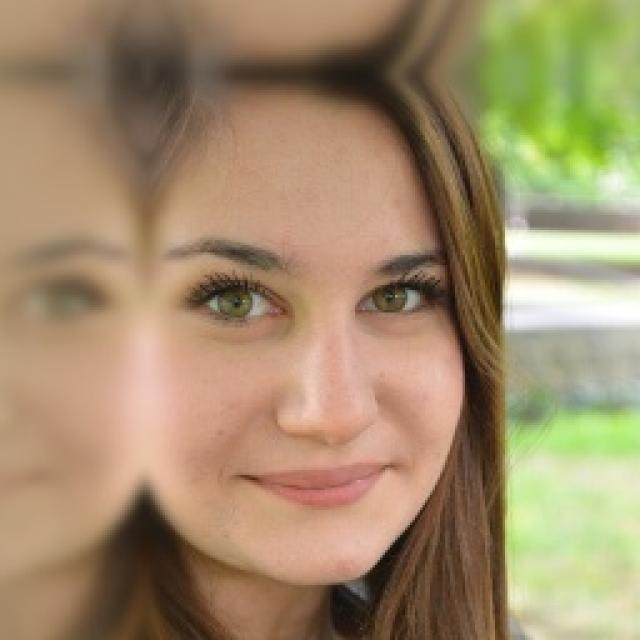no-glasses: (168, 262, 453, 350)
